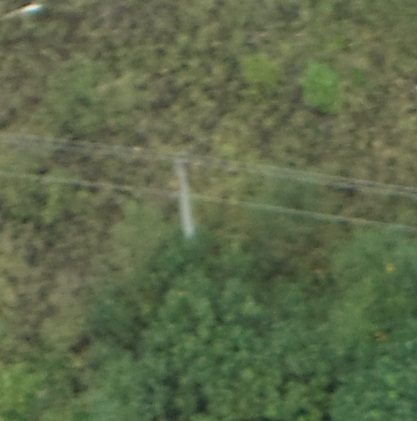opora: (171, 148, 204, 237)
